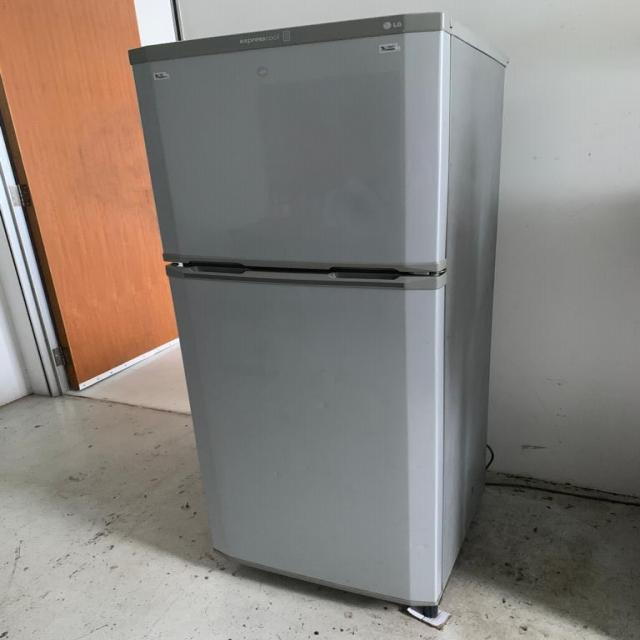refrigerator: (129, 10, 450, 612)
